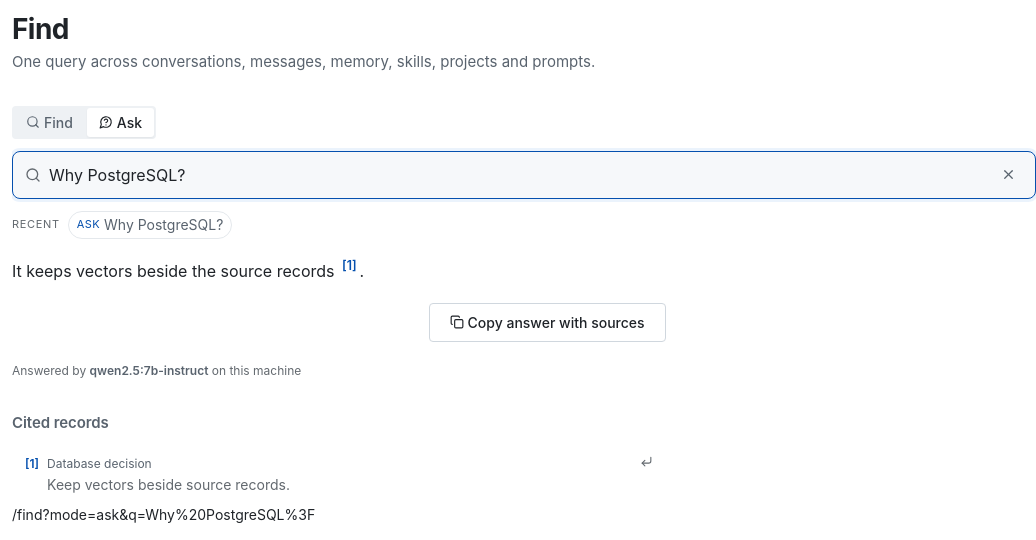
Test case: Find and Ask reuse › hides a previous answer as soon as the question changes
Expected: the text "It keeps vectors beside the source records" is shown, [12, 260, 339, 280]
Clear the search field named "Ask your history" at coordinates (517, 174), box [49, 162, 985, 186]
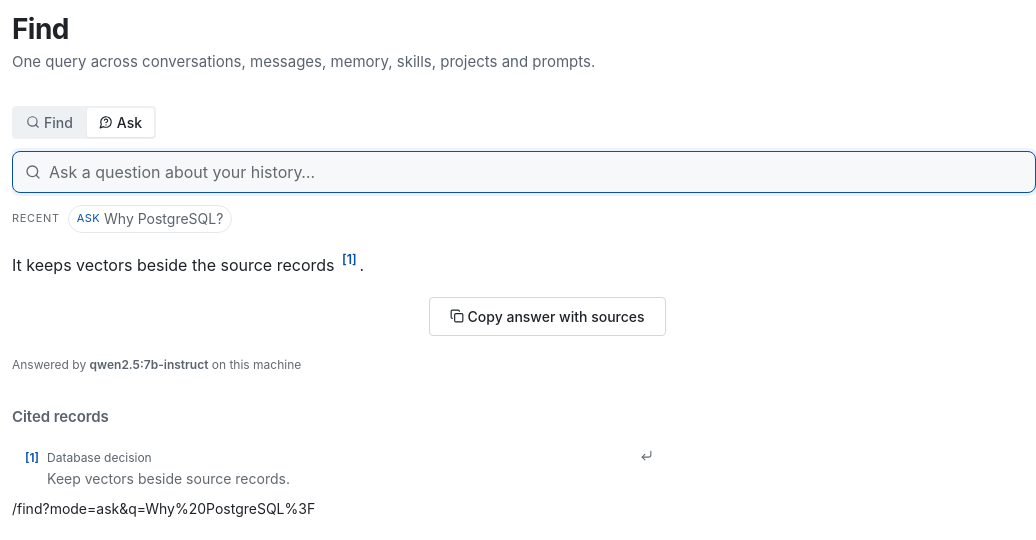
Type "No" into the search field named "Ask your history" at coordinates (536, 172), box [49, 160, 1023, 184]
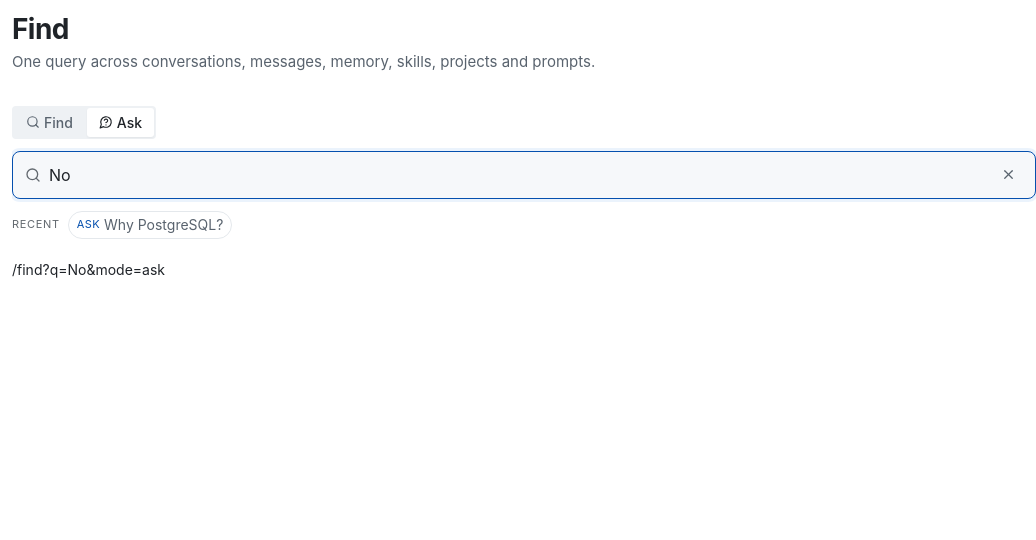
Result: the text with test id "location" shows "q=No" at [42, 260, 165, 278]
Result: the button "Copy answer with sources" is gone
Result: the text "keeps vectors beside the source records" is gone
